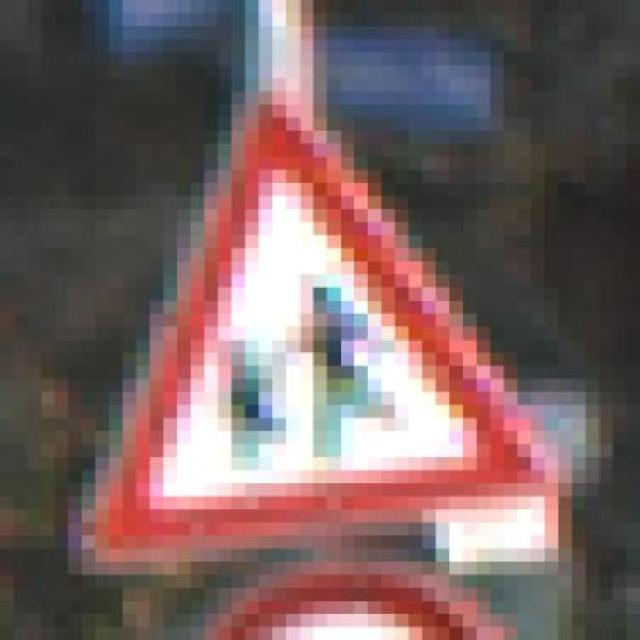Beware of children: (68, 66, 558, 548)
